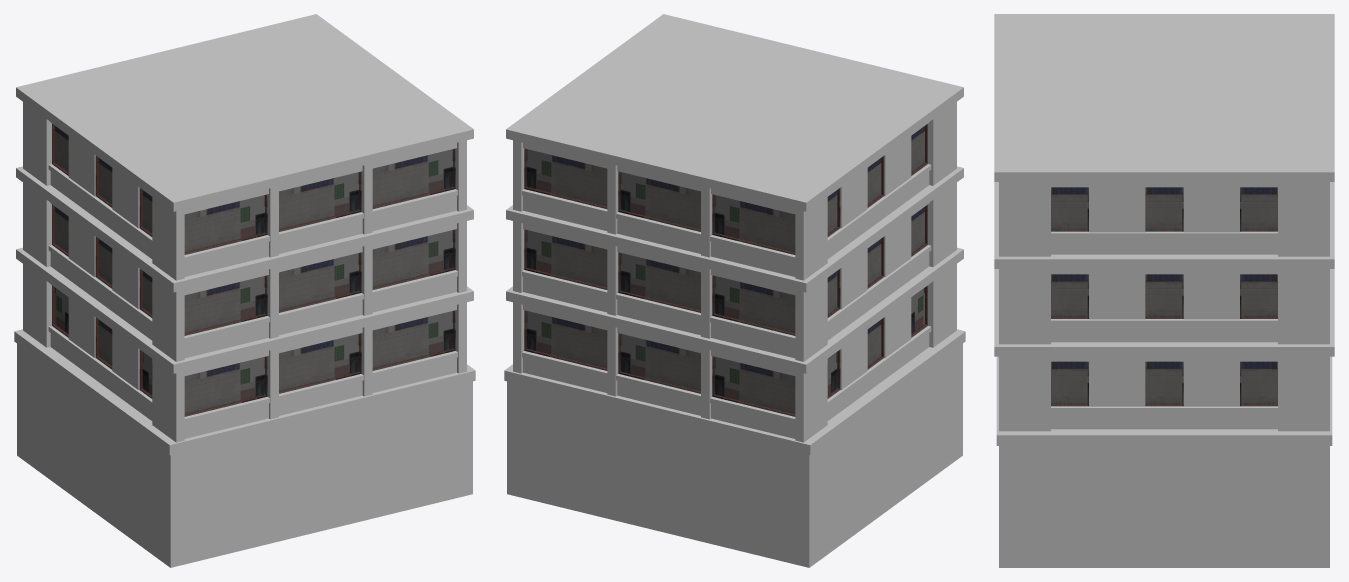
The picture shows the model from 3 angles, left to right: view 1: azimuth 30°, elevation 25°; view 2: azimuth 150°, elevation 25°; view 3: azimuth 270°, elevation 25°; orthographic projection. The views are drawn at different scales.
Parts seen in each view (by area): view 1: FZ_001; view 2: FZ_001; view 3: FZ_001.
Boxes of the visible parts, x1=… form: FZ_001: x1=14, y1=14, x2=475, y2=567; FZ_001: x1=504, y1=14, x2=965, y2=567; FZ_001: x1=994, y1=14, x2=1334, y2=567.
Size of the model in its own units: 718 by 641 by 822.
